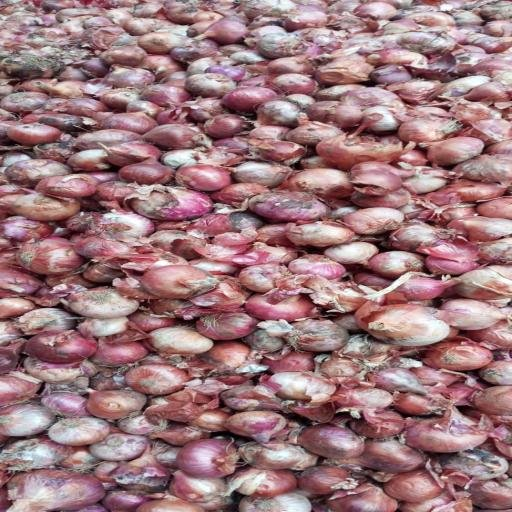damaged: (152, 268, 209, 292), (280, 376, 327, 402), (93, 393, 138, 419), (158, 332, 206, 355), (246, 414, 276, 436)
healthy: (426, 417, 478, 449), (193, 441, 237, 478), (33, 337, 85, 357), (318, 429, 356, 456), (58, 421, 102, 442), (242, 472, 284, 494), (302, 227, 354, 243), (137, 371, 182, 389), (382, 256, 414, 272)
rotten: (19, 473, 93, 508), (336, 140, 408, 174), (29, 243, 83, 273), (373, 368, 428, 395), (154, 187, 202, 217), (116, 464, 164, 490), (13, 442, 61, 468), (262, 196, 321, 216), (1, 56, 60, 75), (296, 326, 338, 351), (306, 466, 350, 488), (454, 454, 496, 476), (15, 317, 75, 332), (216, 214, 262, 230), (45, 115, 93, 129), (227, 391, 266, 407), (102, 436, 122, 460), (273, 36, 299, 52)
